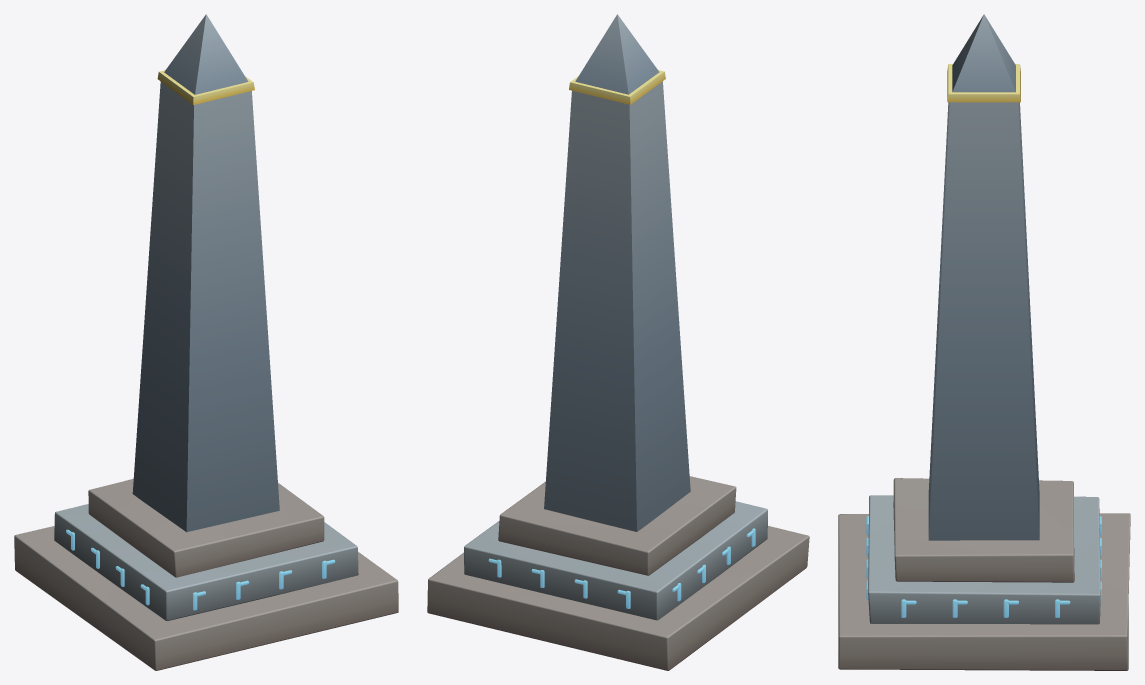
File: mirror_obelisk.glb
3 views of the same model, side by side, from view 1: azimuth 30°, elevation 25°; view 2: azimuth 150°, elevation 25°; view 3: azimuth 270°, elevation 25° (orthographic). The views are drawn at different scales.
Parts seen in each view (by area): view 1: mirror_obelisk; view 2: mirror_obelisk; view 3: mirror_obelisk.
Boxes of the visible parts, x1,y1,x2,y2 form: mirror_obelisk: (14,14,398,670); mirror_obelisk: (427,14,809,670); mirror_obelisk: (838,14,1130,670).
Bounding box in the file's own units: 3.41 × 7.71 × 3.43.
3 materials, 3 textured.
